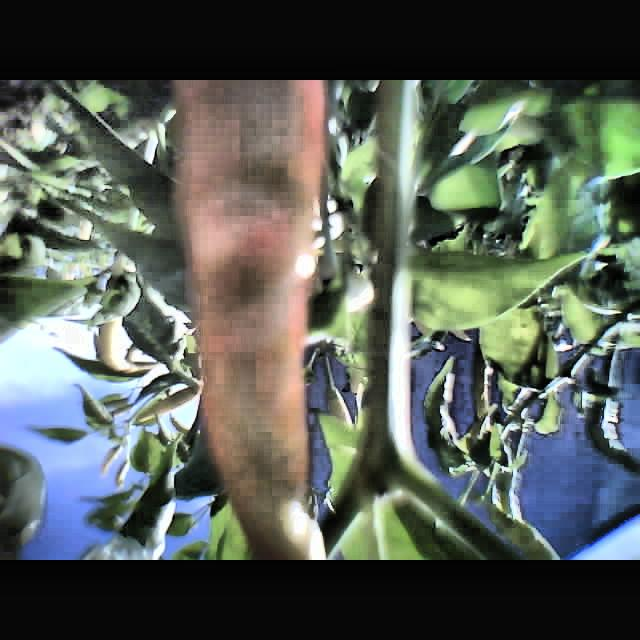Cabai: (157, 80, 337, 560)
